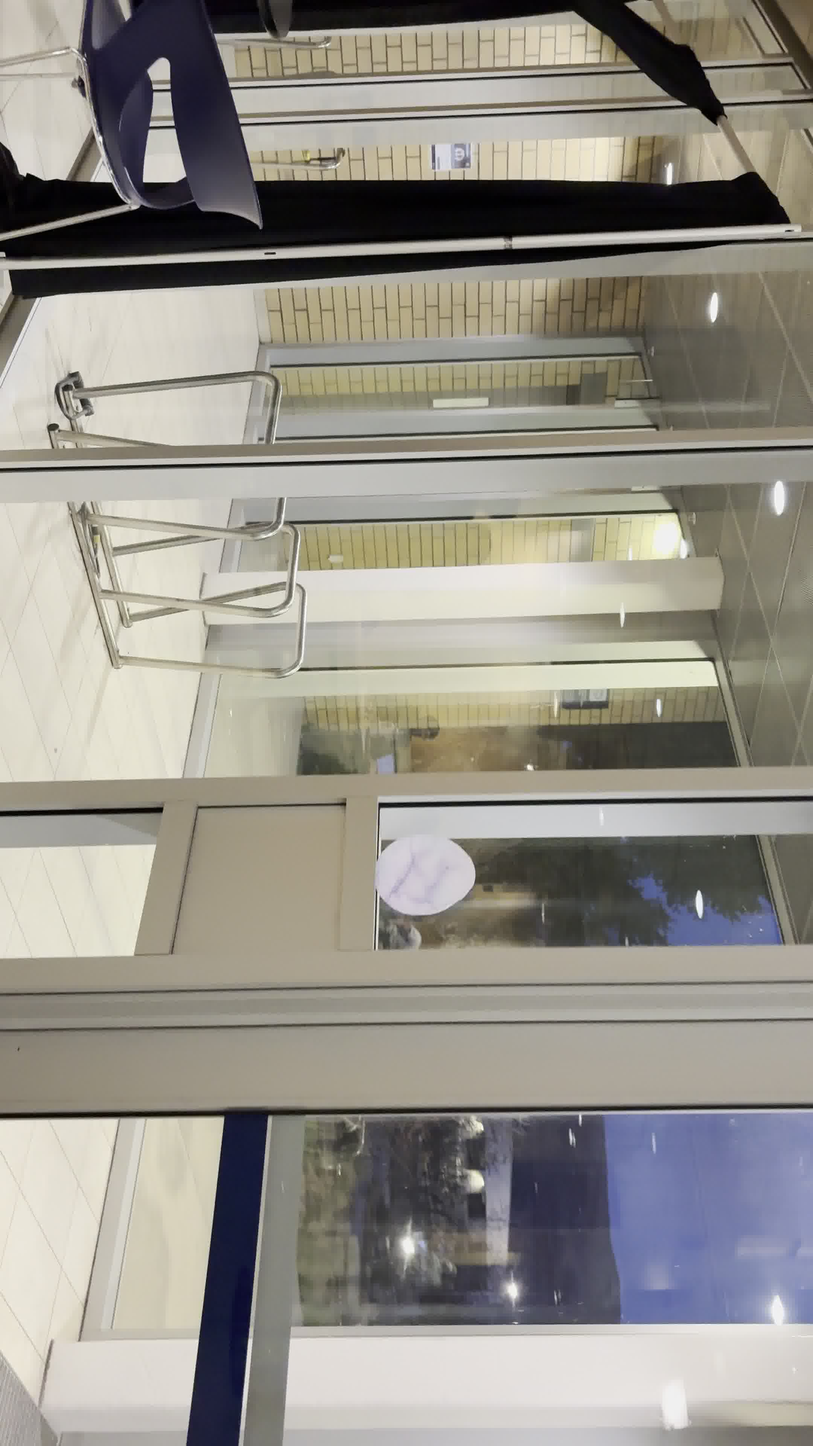Target: (373, 830, 477, 917)
